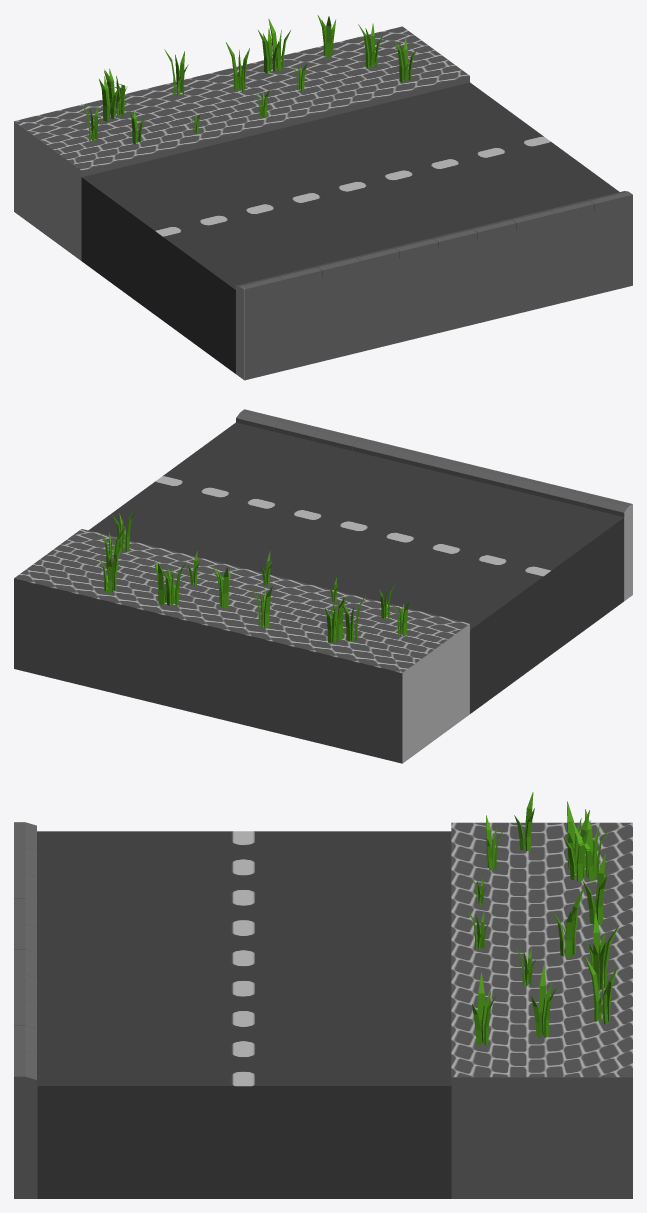
Rendered from ground.fbx.
3 views of the same model, one above another, from view 1: azimuth 30°, elevation 25°; view 2: azimuth 150°, elevation 25°; view 3: azimuth 270°, elevation 25° (orthographic). The views are drawn at different scales.
Visible parts, largest first — view 1: GroundPlatform; view 2: GroundPlatform; view 3: GroundPlatform.
Part boxes in pixels (<box>): GroundPlatform: <box>14,15,632,380</box>; GroundPlatform: <box>14,409,632,763</box>; GroundPlatform: <box>14,792,632,1198</box>.
Bounding box in the file's own units: 232 × 77.55 × 238.
